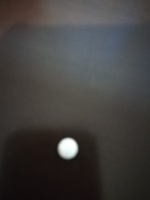Yuvarlak Buskopan: (55, 136, 80, 161)
